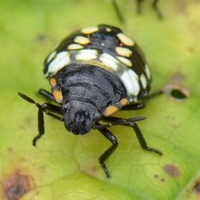insect: (18, 24, 162, 176)
